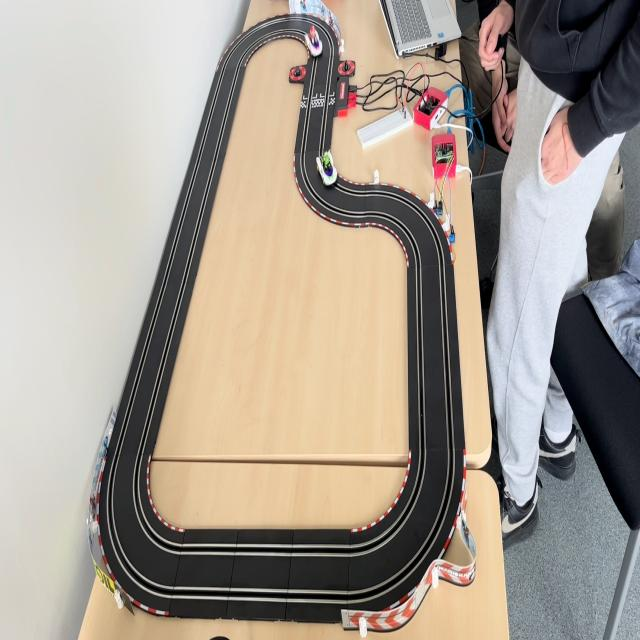mario: (306, 26, 325, 57)
yoshi: (315, 152, 336, 189)
